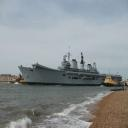Portanaves: (18, 46, 124, 86)
